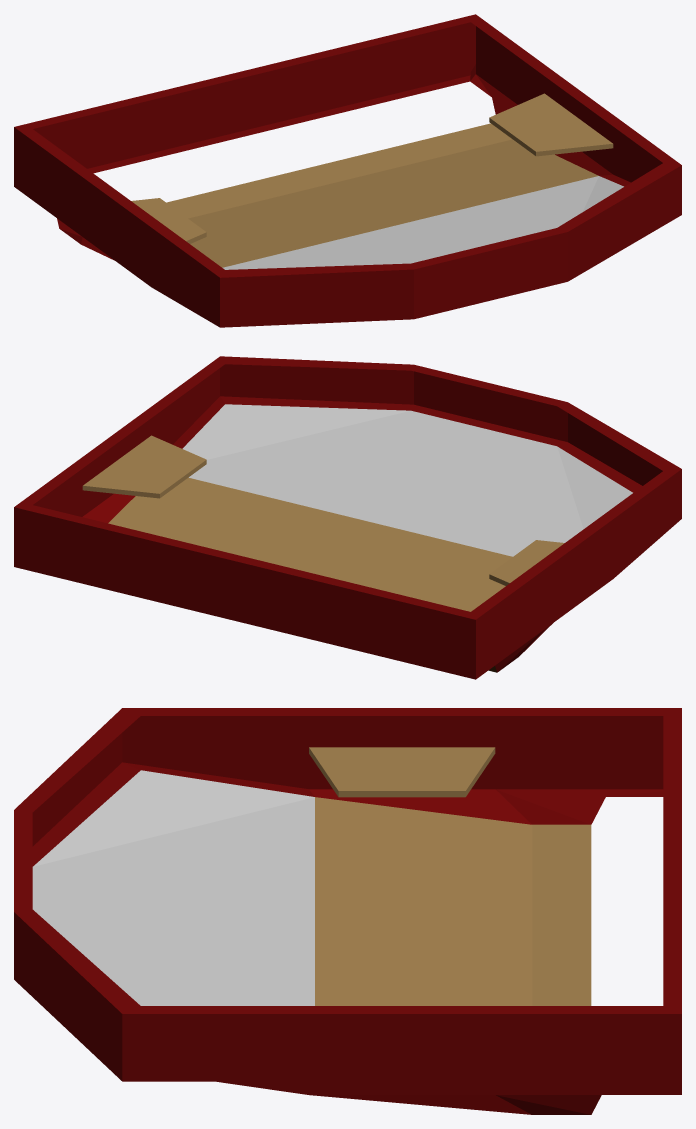
Rendered from concerthall.obj.
3 views of the same model, one above another, from view 1: azimuth 30°, elevation 25°; view 2: azimuth 150°, elevation 25°; view 3: azimuth 270°, elevation 25° (orthographic). The views are drawn at different scales.
Visible parts, largest first — view 1: Cube_Cube_Material.002, Cube_Cube_Material, Cube_Cube_Material.001; view 2: Cube_Cube_Material.002, Cube_Cube_Material.001, Cube_Cube_Material; view 3: Cube_Cube_Material.002, Cube_Cube_Material, Cube_Cube_Material.001.
Part boxes in pixels (box(x1,y1,x2,y2)): Cube_Cube_Material.002: box(14, 14, 681, 327); Cube_Cube_Material: box(131, 93, 613, 267); Cube_Cube_Material.001: box(222, 176, 623, 269); Cube_Cube_Material.002: box(14, 356, 681, 679); Cube_Cube_Material.001: box(182, 404, 632, 556); Cube_Cube_Material: box(82, 435, 564, 611); Cube_Cube_Material.002: box(14, 708, 681, 1114); Cube_Cube_Material: box(309, 747, 591, 1005); Cube_Cube_Material.001: box(32, 770, 314, 1005).
Size of the model in its own units: 48.43 by 8.04 by 44.69.
